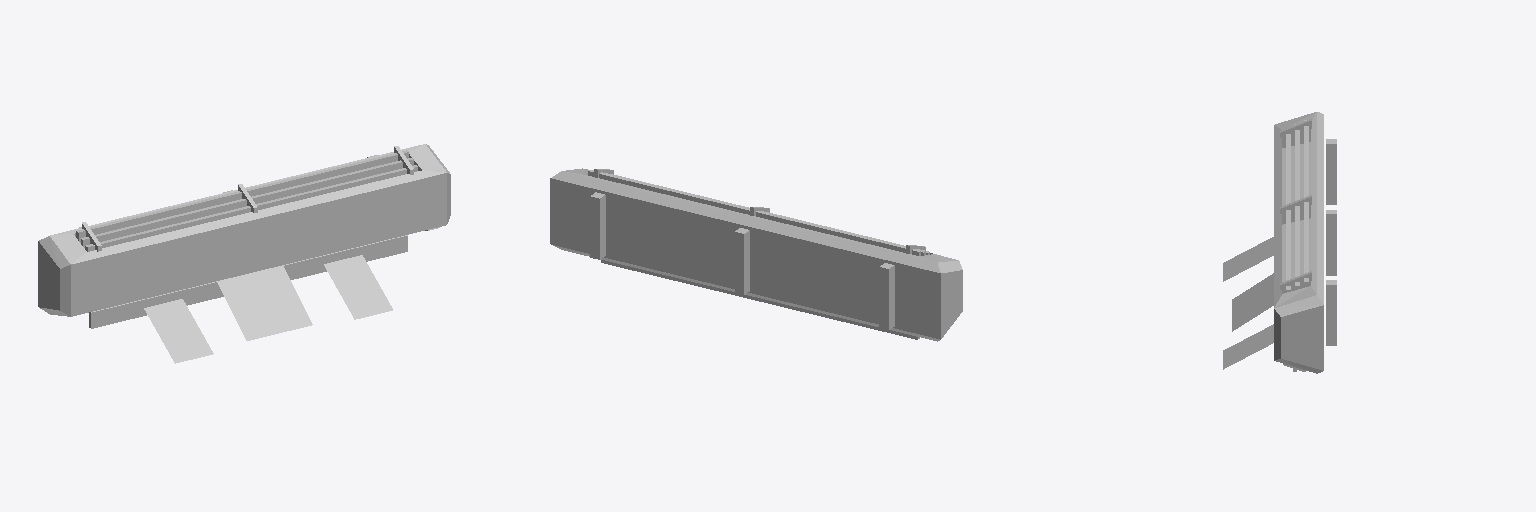
File: Air conditioner 1 effect.obj
3 renders of one model, left to right at view 1: azimuth 30°, elevation 25°; view 2: azimuth 150°, elevation 25°; view 3: azimuth 270°, elevation 25°, orthographic.
Parts seen in each view (by area): view 1: Air_Conditioner1; view 2: Air_Conditioner1; view 3: Air_Conditioner1.
Boxes of the visible parts, box(x1,y1,x2,y2) form: Air_Conditioner1: box(38, 144, 450, 363); Air_Conditioner1: box(550, 168, 962, 341); Air_Conditioner1: box(1223, 112, 1336, 373).
Bounding box in the file's own units: 1000 × 295 × 252.